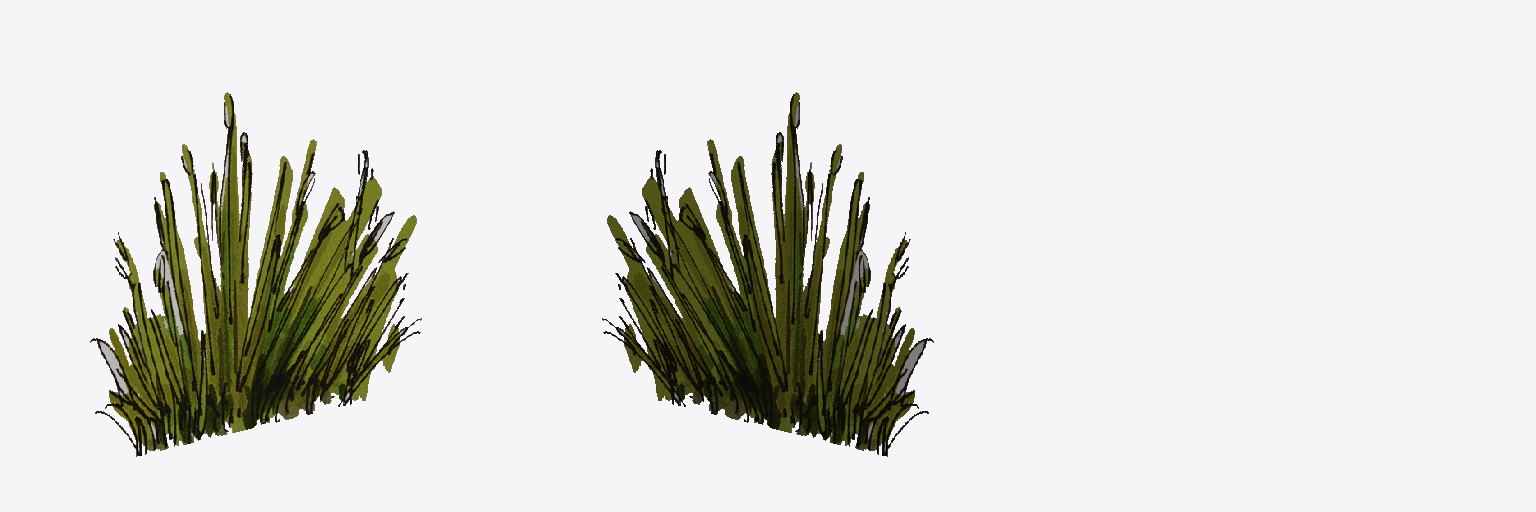
The picture shows the model from 3 angles: view 1: azimuth 30°, elevation 25°; view 2: azimuth 150°, elevation 25°; view 3: azimuth 270°, elevation 25°; orthographic projection.
Parts seen in each view (by area): view 1: Mesh1 Model; view 2: Mesh1 Model; view 3: none.
Part boxes in pixels (x1,y1,x2,y2): Mesh1 Model: (90, 92, 421, 456); Mesh1 Model: (602, 92, 933, 456).
Bounding box in the file's own units: 53.22 × 52.37 × 0.
1 materials, 1 textured.